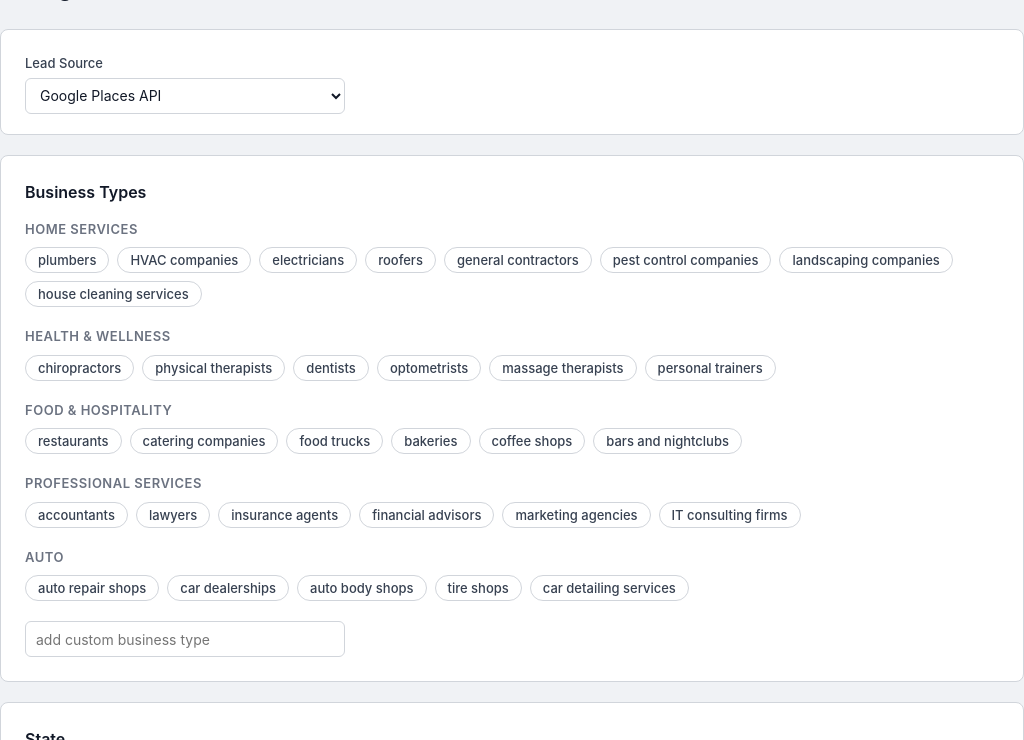
it: ConfigBuilder - Run button fetches estimate › "Cancel" at estimate step returns to editing (hides estimate, shows Run button)
The image size is (1024, 740).
Click the checkbox labelled "plumbers". click: {"x": 67, "y": 260}
box: [25,247,109,273]
(page scrolled)
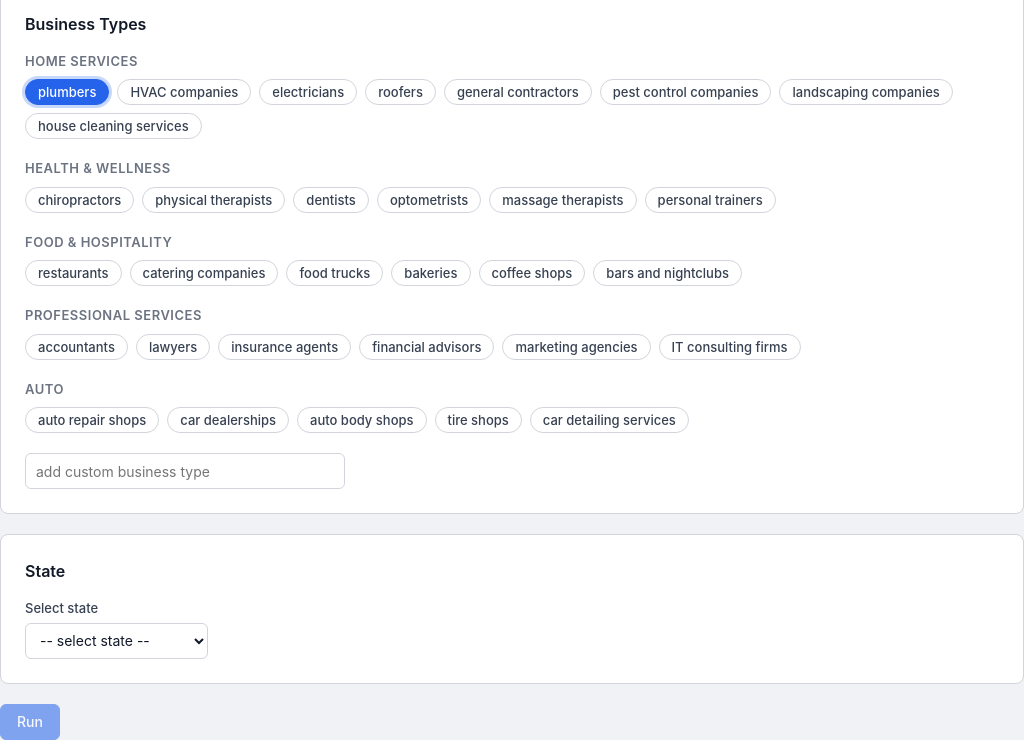
Select "Texas (TX)" in the dropdown labelled "Select state". click: {"x": 116, "y": 640}
box: [25,622,208,658]
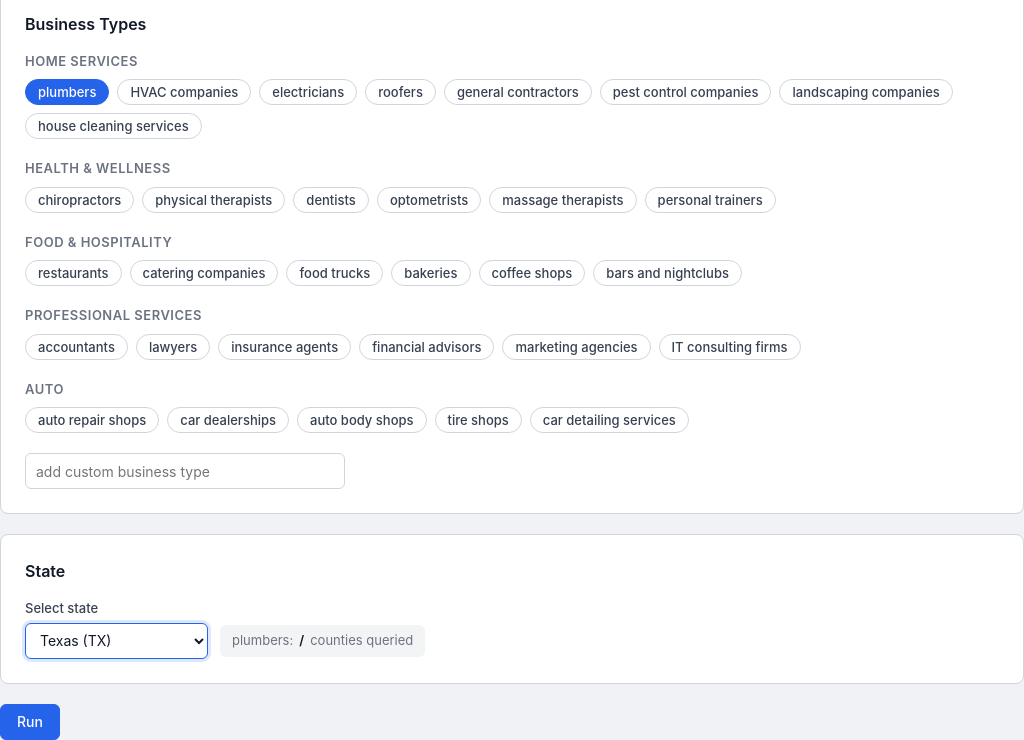
Click the button "Run". click: {"x": 30, "y": 722}
box: [0,704,60,739]
(page scrolled)
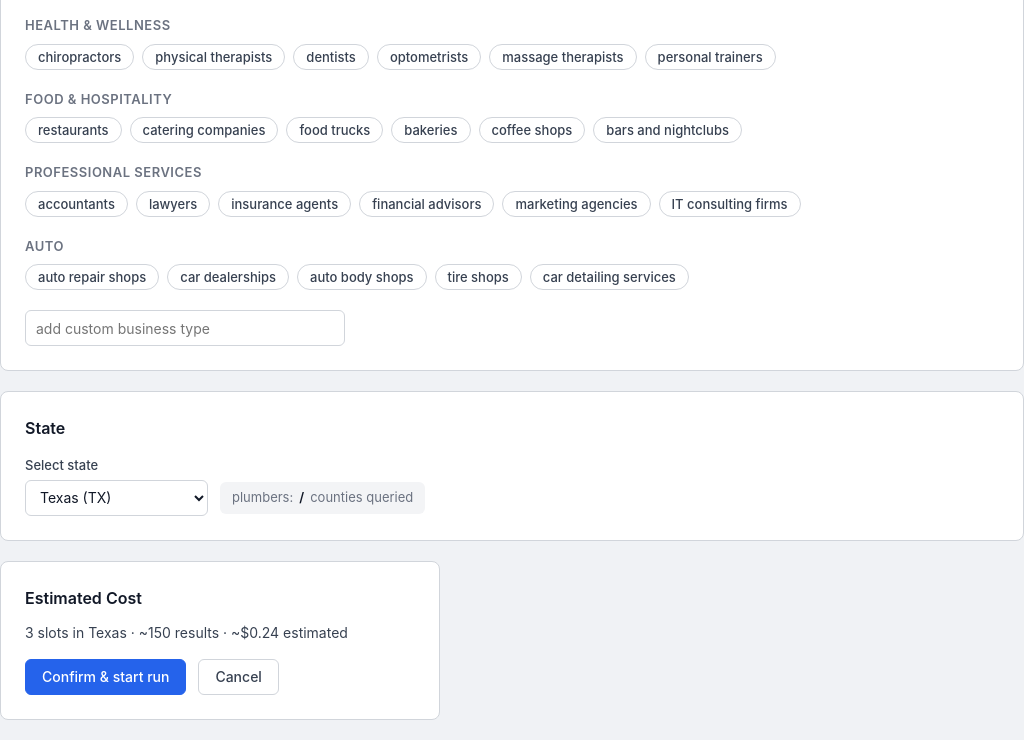
Expected: the text "3 slots in Texas · ~150 results · ~$0.24 estimated" is shown, [25,624,348,640]
Click the button "Cancel". click: {"x": 239, "y": 676}
box: [198,658,279,694]
(page scrolled)
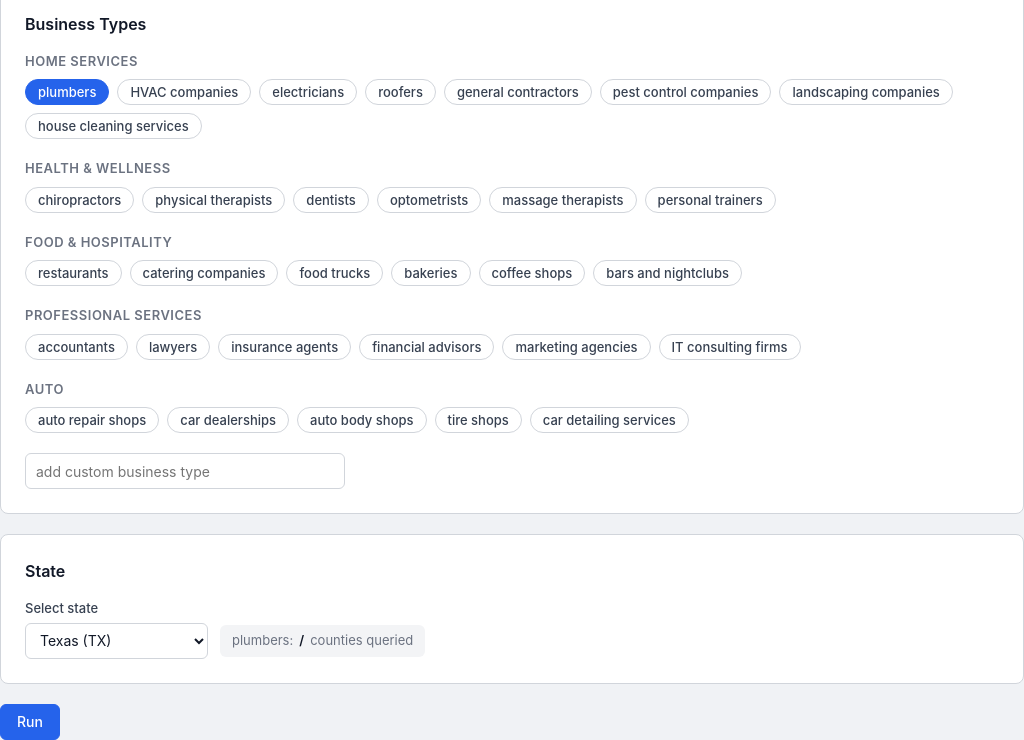
Expected: the button "Run" is shown, [0,704,60,739]
Expected: the text "3 slots in Texas" is gone
Expected: the button "Confirm & start run" is gone
